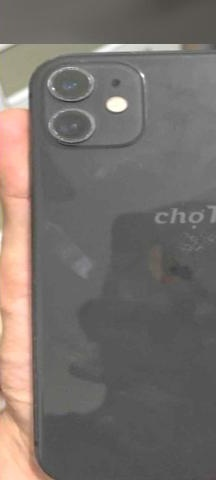scratch: (44, 60, 121, 165), (154, 181, 216, 288), (20, 315, 64, 460), (38, 219, 111, 293)
